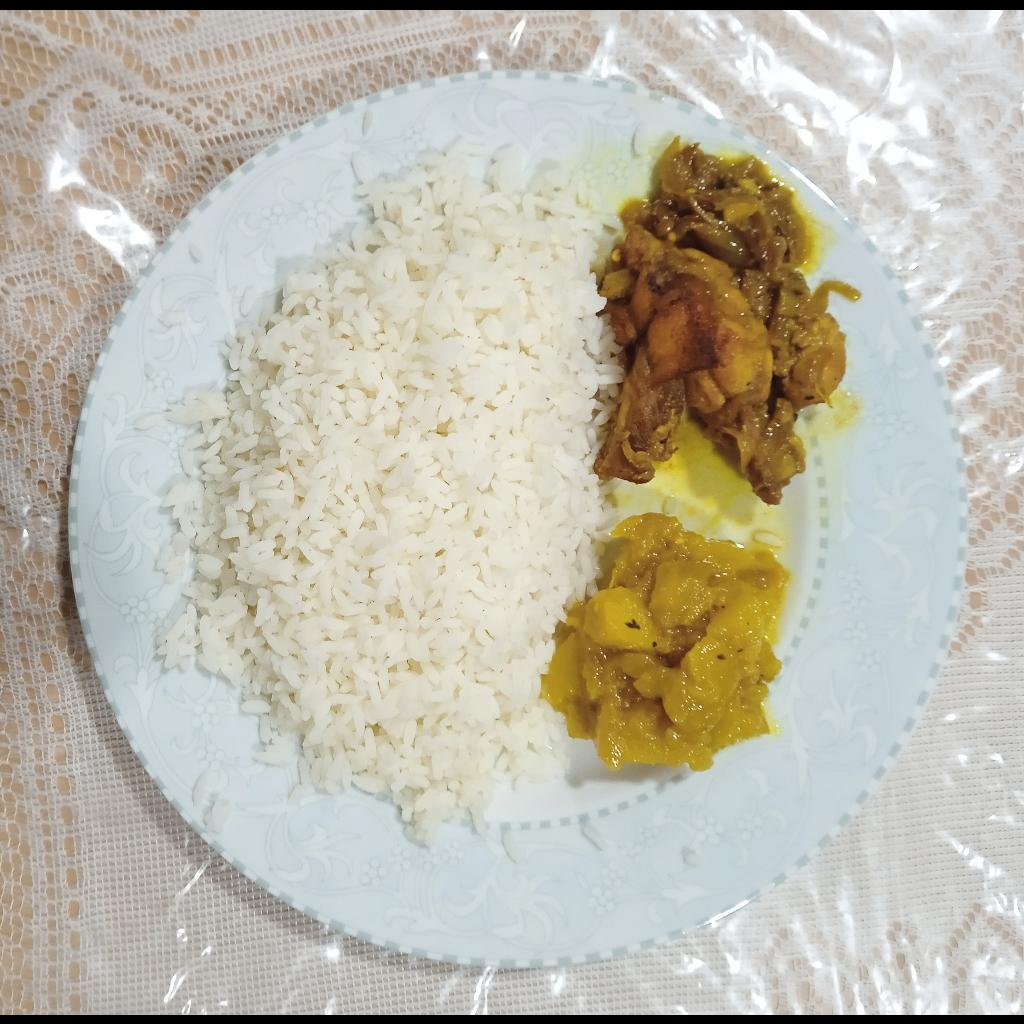chicken: (597, 132, 848, 507)
kumra-vaji: (545, 504, 789, 773)
rice: (154, 143, 612, 859)
